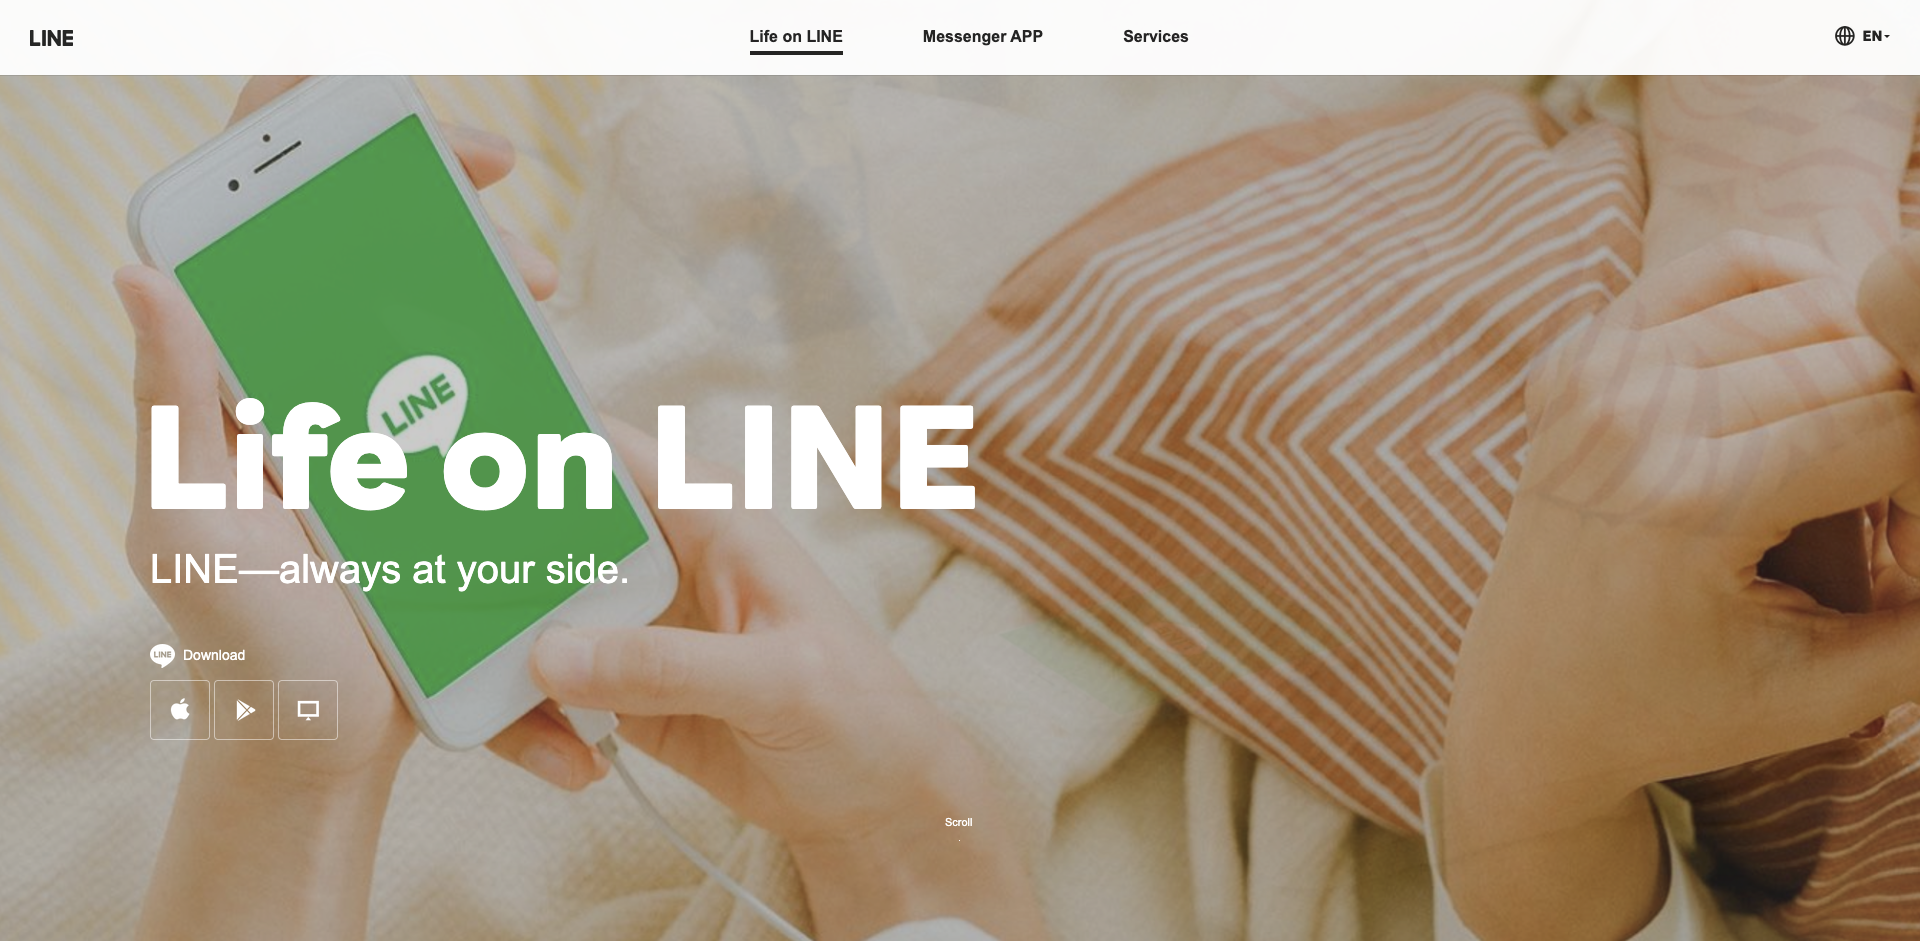link: (151, 681, 209, 739), (216, 681, 273, 739), (279, 681, 337, 739), (923, 28, 1043, 45), (749, 28, 842, 45), (1123, 28, 1189, 45), (29, 29, 73, 47)
